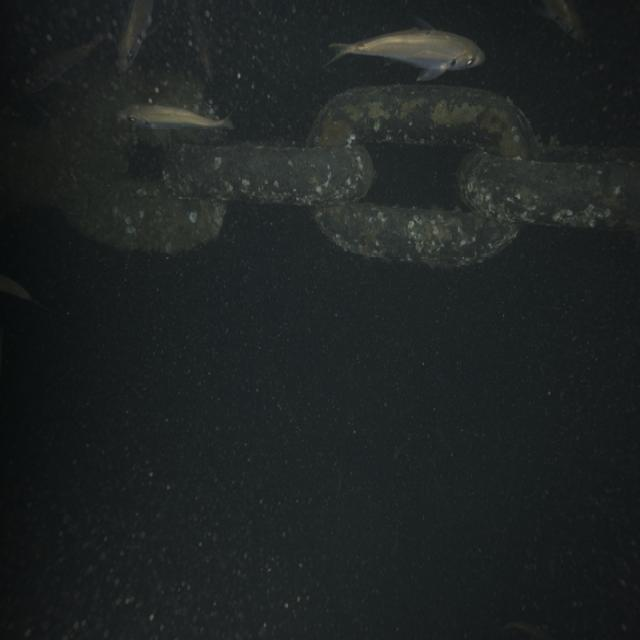ChainLink: (308, 85, 536, 159), (458, 147, 640, 232), (315, 203, 518, 267), (164, 145, 374, 205), (62, 181, 226, 252)
